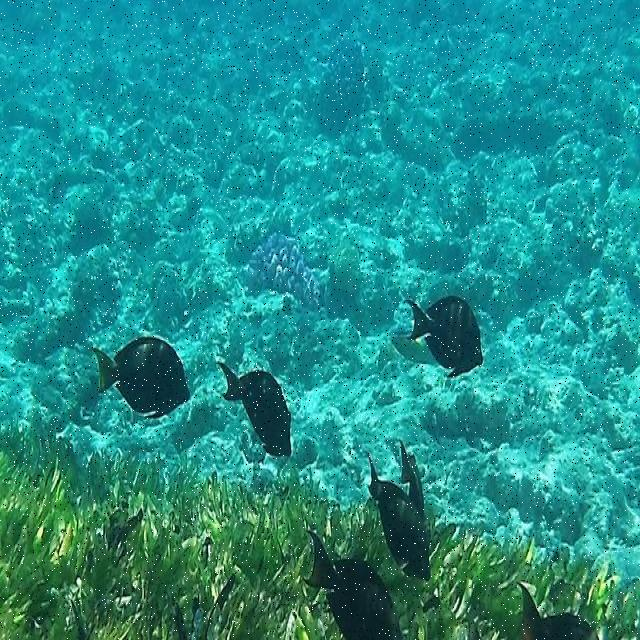aquatic plants: (0, 410, 639, 639)
fish: (304, 531, 404, 639), (366, 452, 431, 583), (94, 335, 192, 420), (215, 362, 291, 456), (406, 295, 483, 376), (517, 583, 599, 639), (399, 441, 424, 513)
